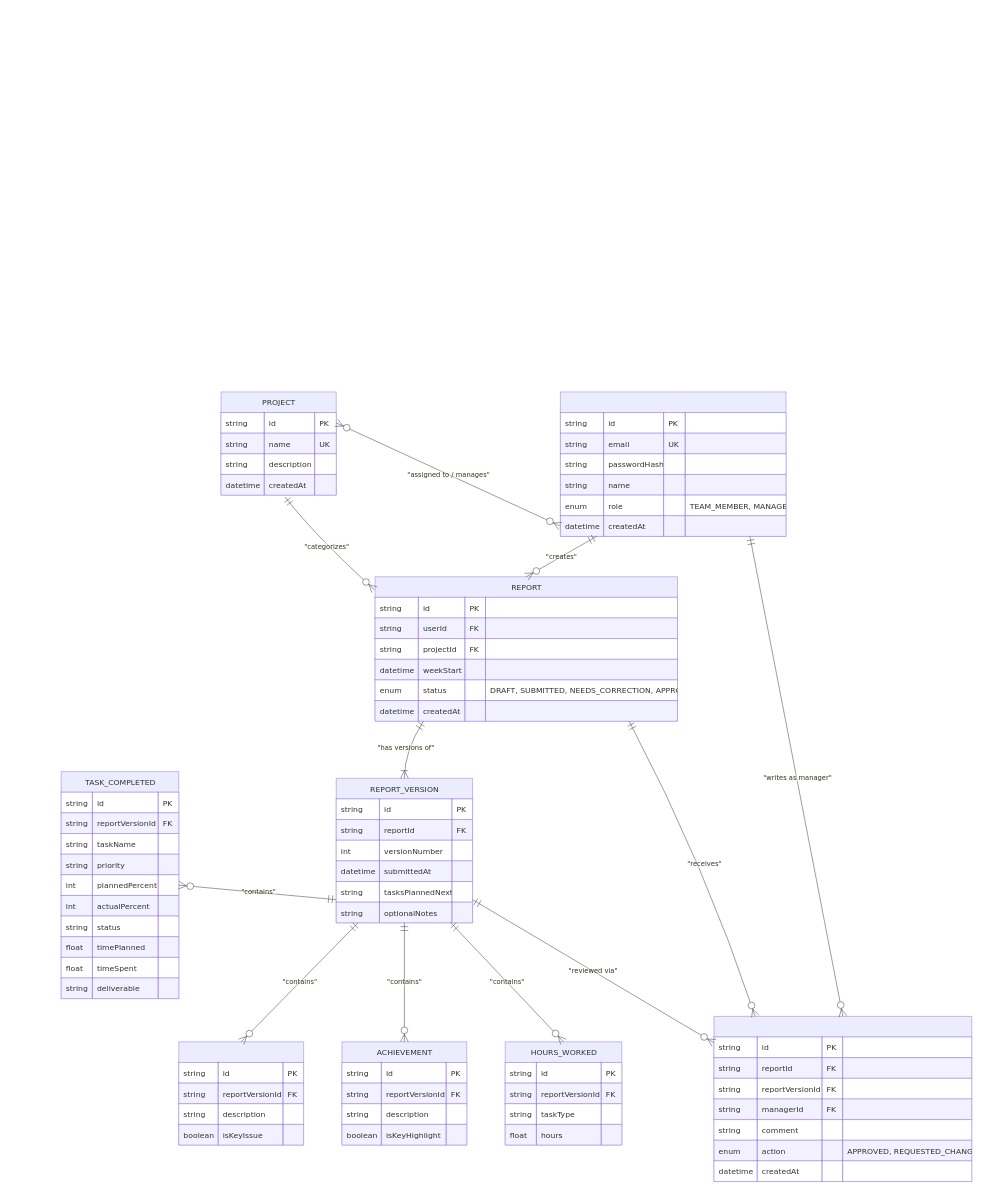
The diagram is 990 pixels wide and 1190 high, and some of its shapes have lost their labels. The shapes that lost their labels are listed below. From the top down, each one's box as (x1, y1, x2, y2) in pixels, then its label:
(560, 391, 786, 536): USER
(178, 1041, 304, 1145): BLOCKER
(714, 1016, 972, 1182): REVIEW_COMMENT
